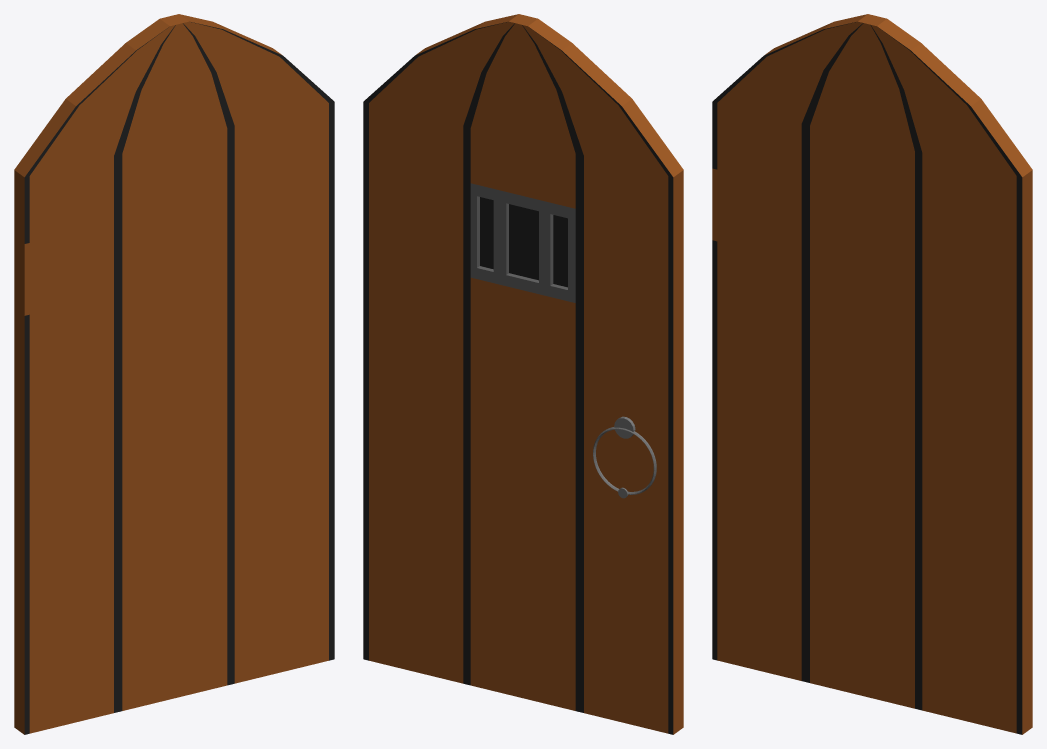
File: door.fbx
The picture shows the model from 3 angles, left to right: view 1: azimuth 30°, elevation 25°; view 2: azimuth 150°, elevation 25°; view 3: azimuth 330°, elevation 25°; orthographic projection.
Visible parts, largest first — view 1: Cube; view 2: Cube; view 3: Cube.
Boxes of the visible parts, left/top/right/bottom form: Cube: left=14, top=14, right=334, bottom=734; Cube: left=363, top=14, right=683, bottom=734; Cube: left=712, top=14, right=1032, bottom=734.
Size of the model in its own units: 218 by 452 by 20.78.
